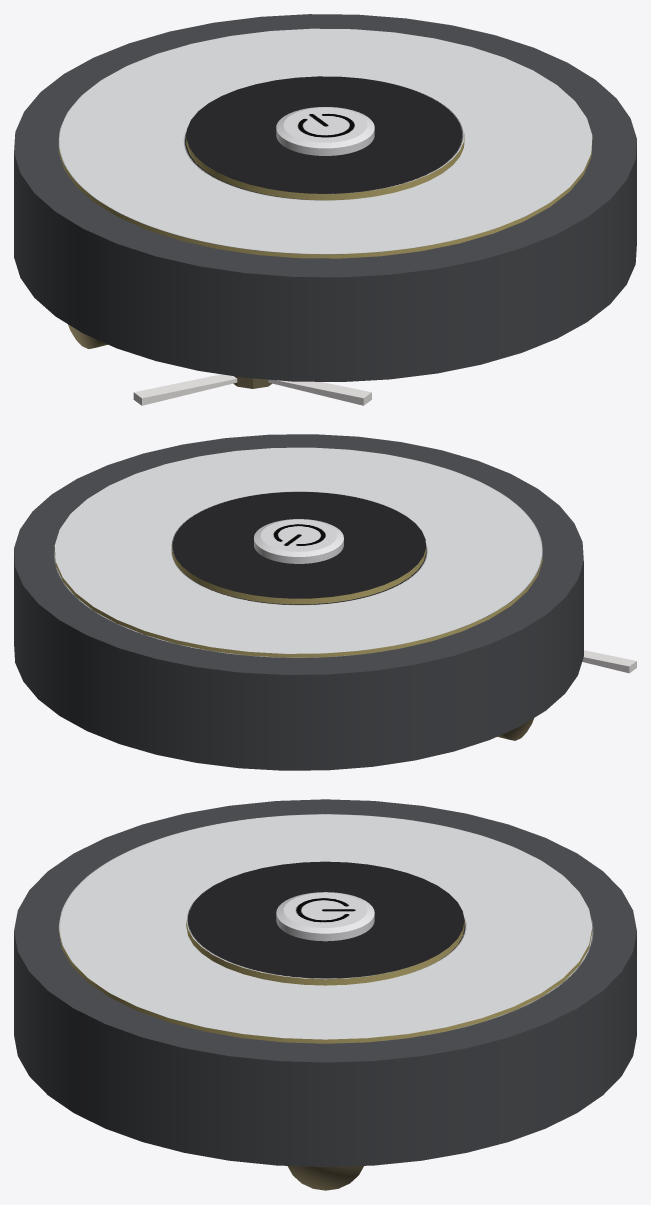
The model's file is Trap_Roomba_v01.fbx.
The picture shows the model from 3 angles, top to bottom: view 1: azimuth 30°, elevation 25°; view 2: azimuth 150°, elevation 25°; view 3: azimuth 270°, elevation 25°; orthographic projection. The views are drawn at different scales.
Visible parts, largest first — view 1: Roomba_Body, Roomba_Button, Roomba_Brush; view 2: Roomba_Body, Roomba_Button, Roomba_Brush; view 3: Roomba_Body, Roomba_Button, Wheel_Side.
Part boxes in pixels (x1=…): Roomba_Body: x1=14, y1=14, x2=636, y2=381; Roomba_Button: x1=276, y1=107, x2=374, y2=155; Roomba_Brush: x1=133, y1=374, x2=371, y2=405; Roomba_Body: x1=14, y1=434, x2=583, y2=770; Roomba_Button: x1=254, y1=519, x2=343, y2=563; Roomba_Brush: x1=582, y1=650, x2=636, y2=673; Roomba_Body: x1=14, y1=799, x2=636, y2=1167; Roomba_Button: x1=276, y1=892, x2=374, y2=941; Wheel_Side: x1=287, y1=1166, x2=363, y2=1190.
Size of the model in its own units: 34.45 by 9.76 by 34.05.
